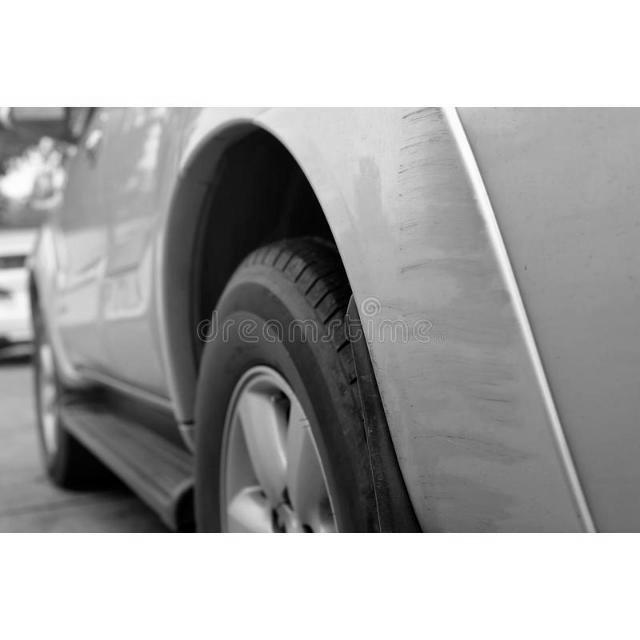fender-dent: (285, 108, 527, 533)
